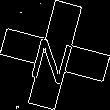N_N: (29, 25, 81, 85)
